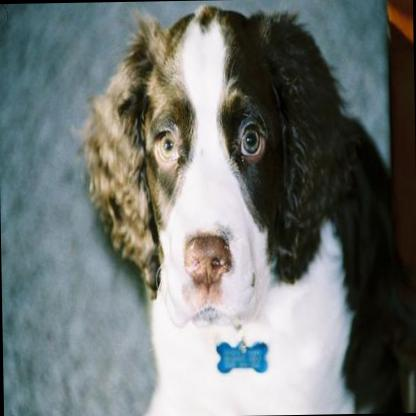English_springer: (77, 0, 416, 416)
